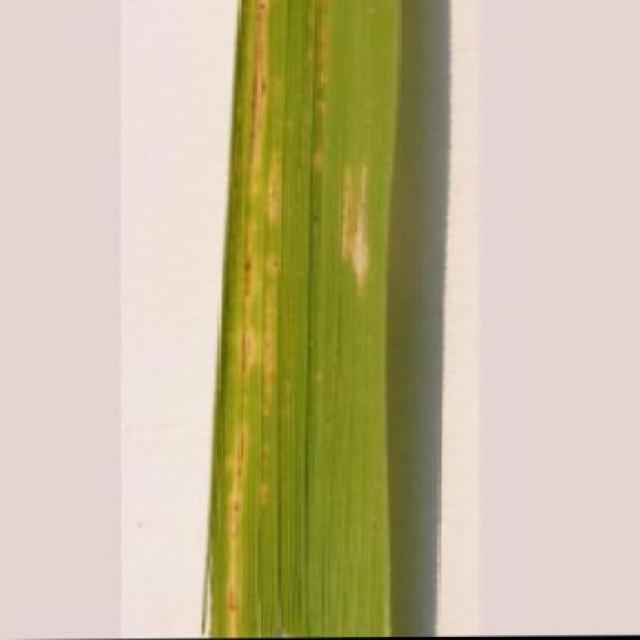Brown_Spot: (192, 0, 404, 638)
